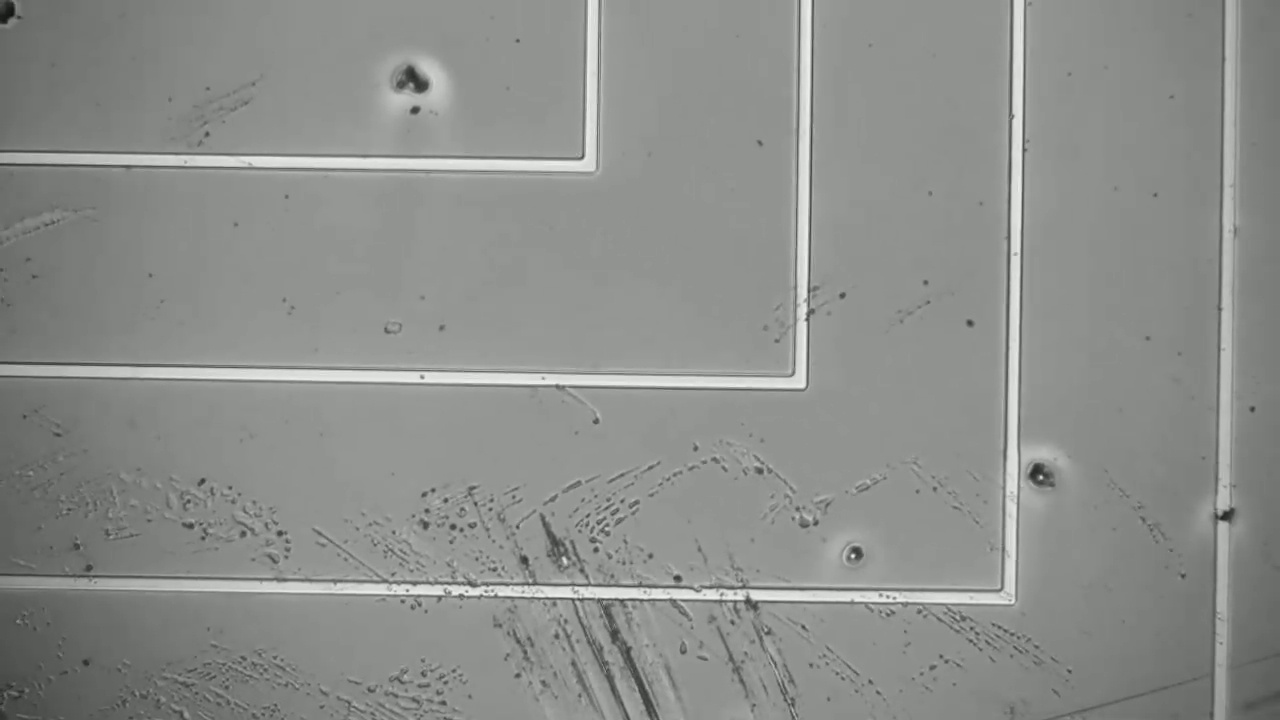scratch: (1076, 650, 1279, 707), (731, 554, 792, 704), (566, 595, 624, 708), (605, 613, 663, 715), (707, 619, 746, 713)
